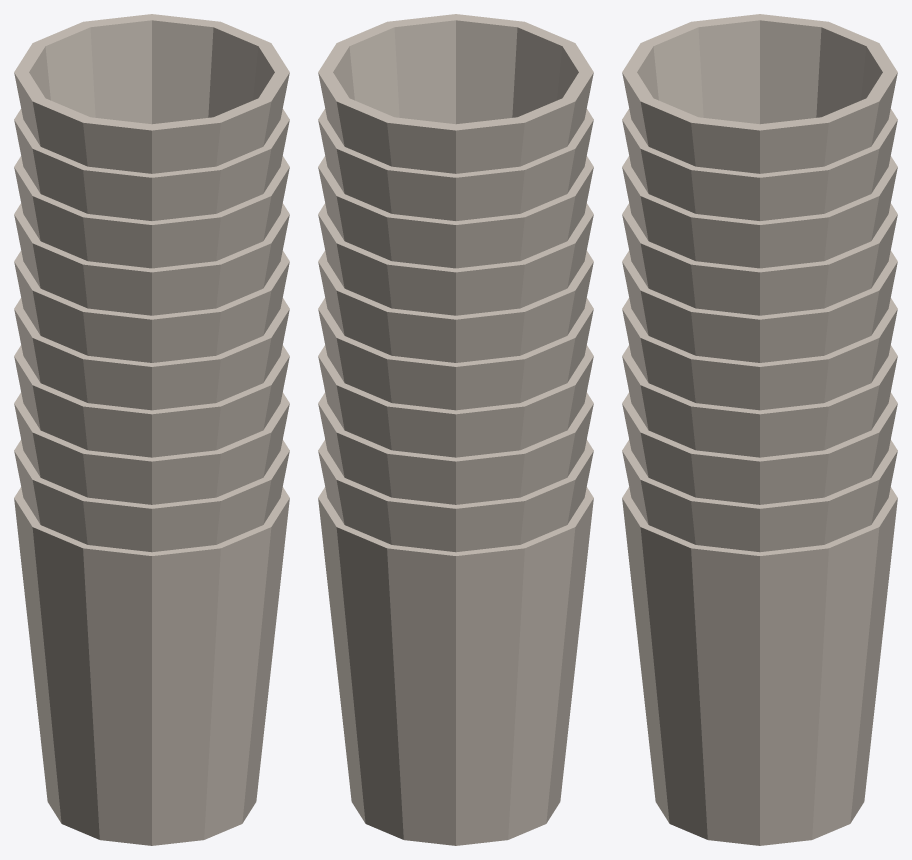
The model's file is SM_Cook_SorbetesCupStack_01.fbx.
The picture shows the model from 3 angles, left to right: view 1: azimuth 30°, elevation 25°; view 2: azimuth 150°, elevation 25°; view 3: azimuth 270°, elevation 25°; orthographic projection.
Visible parts, largest first — view 1: SM_Cook_SorbetesCupStack_01; view 2: SM_Cook_SorbetesCupStack_01; view 3: SM_Cook_SorbetesCupStack_01.
Part boxes in pixels (box(x1,y1,x2,y2)): SM_Cook_SorbetesCupStack_01: box(14, 14, 289, 845); SM_Cook_SorbetesCupStack_01: box(318, 14, 593, 845); SM_Cook_SorbetesCupStack_01: box(622, 14, 897, 845).
Size of the model in its own units: 0.074 by 0.216 by 0.074.
1 material, 1 textured.
